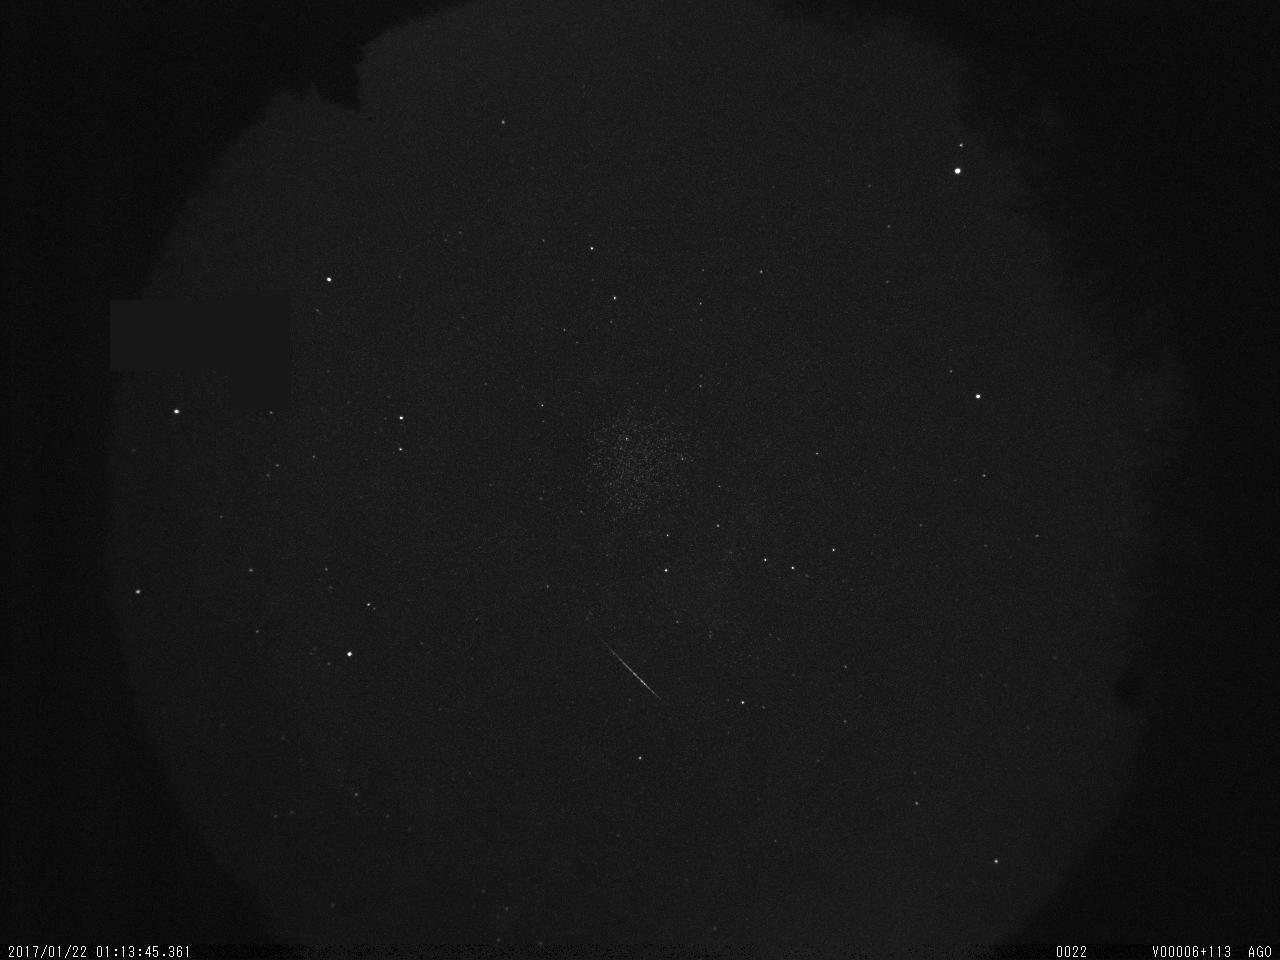meteor: (592, 629, 669, 708)
